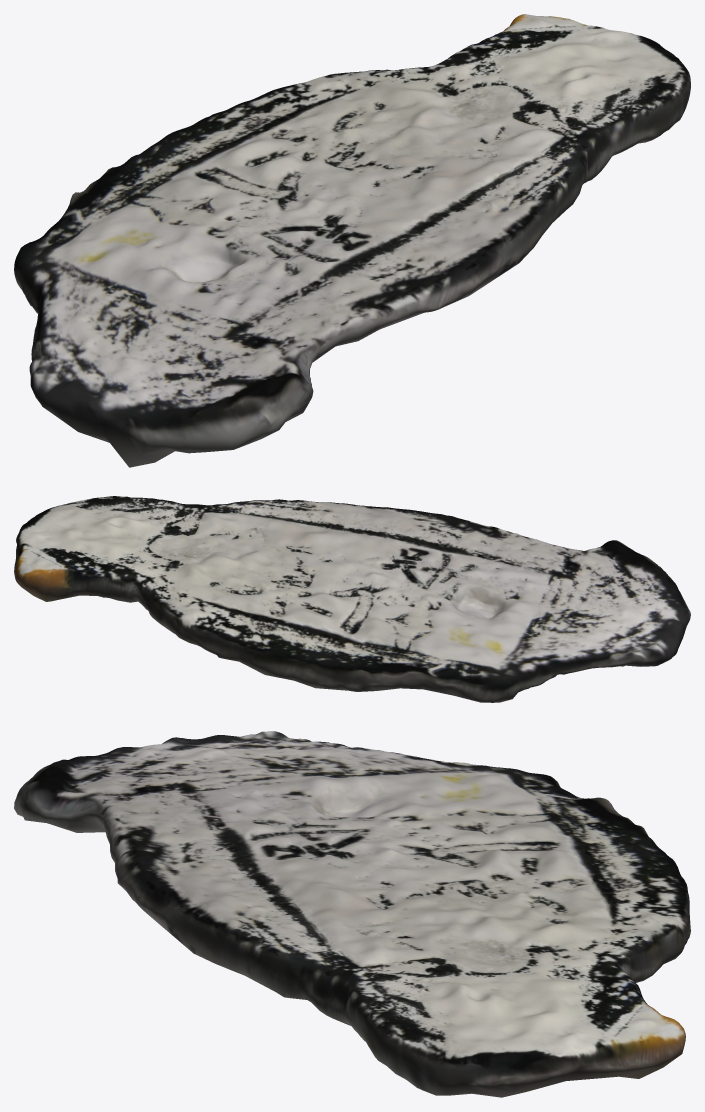
3 views of the same model, one above another, from view 1: azimuth 30°, elevation 25°; view 2: azimuth 150°, elevation 25°; view 3: azimuth 270°, elevation 25° (orthographic). The views are drawn at different scales.
Bounding box in the file's own units: 0.879 × 0.1604 × 0.5959.
Materials: 1 (1 with a texture image).
